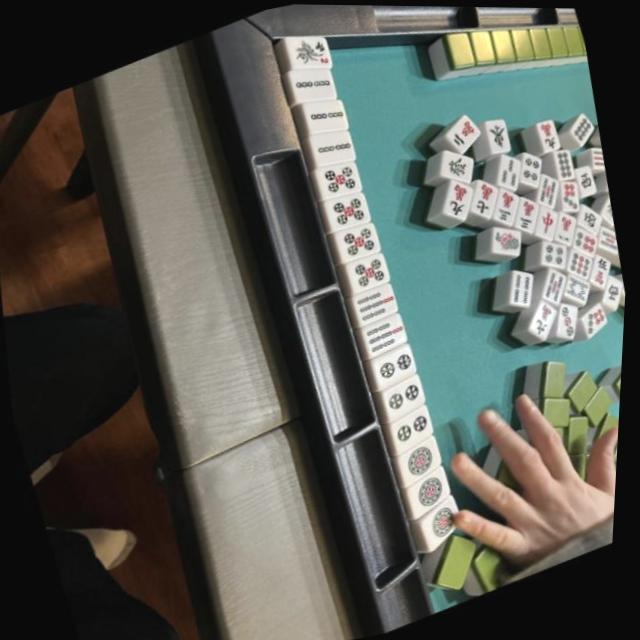sb2: (282, 65, 332, 106), (295, 95, 343, 134), (303, 128, 351, 166)
sb7: (357, 312, 408, 356), (347, 282, 398, 325)
sd1: (397, 438, 446, 482), (421, 500, 467, 542), (409, 471, 453, 511)
sd2: (369, 344, 420, 387), (380, 375, 429, 418), (389, 409, 436, 447)
sd5: (311, 158, 358, 200), (331, 221, 378, 262), (344, 252, 391, 292), (321, 192, 368, 232)
